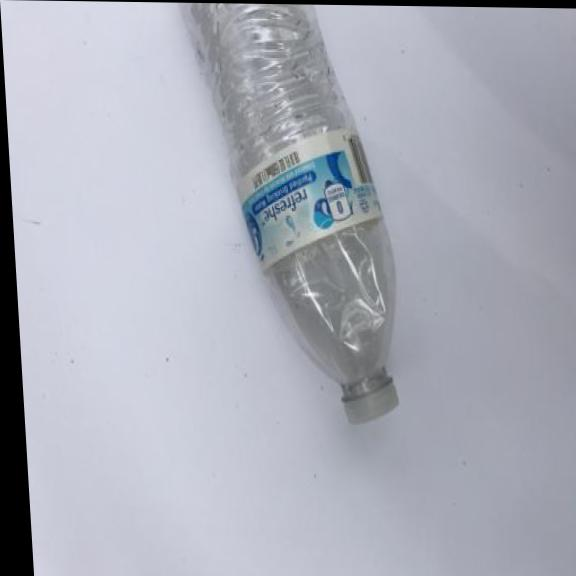Plastik: (174, 3, 409, 434)
